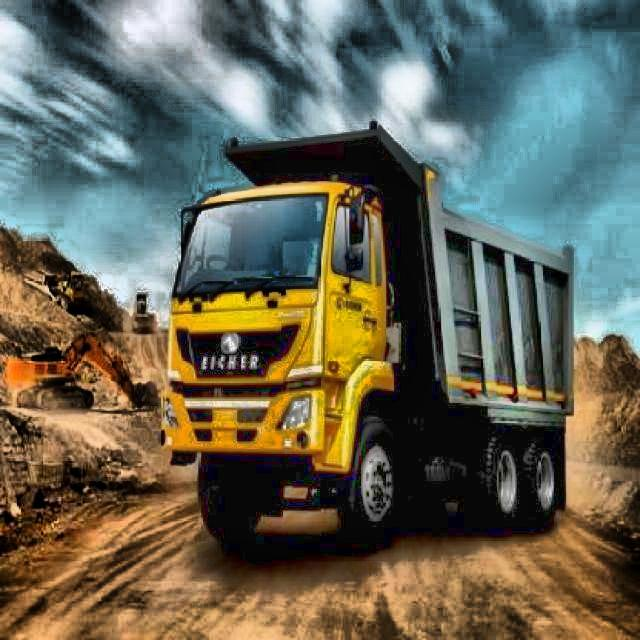dump_truck: (155, 119, 578, 550)
